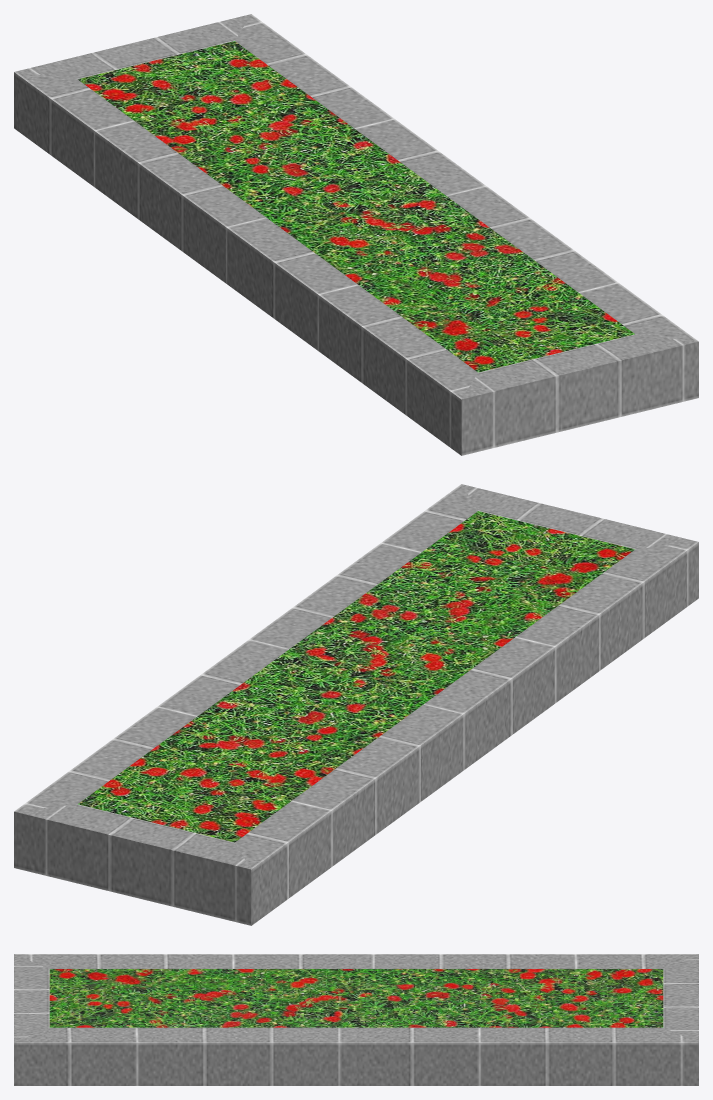
File: VEG0310036.fbx
3 views of the same model, one above another, from view 1: azimuth 30°, elevation 25°; view 2: azimuth 150°, elevation 25°; view 3: azimuth 270°, elevation 25° (orthographic). The views are drawn at different scales.
Parts seen in each view (by area): view 1: smVEG0310036; view 2: smVEG0310036; view 3: smVEG0310036.
Part boxes in pixels (box(x1,y1,x2,y2)): smVEG0310036: box(14, 14, 698, 455); smVEG0310036: box(14, 484, 698, 925); smVEG0310036: box(14, 954, 698, 1085).
Size of the model in its own units: 74.35 by 16.87 by 243.
1 material, 1 textured.
